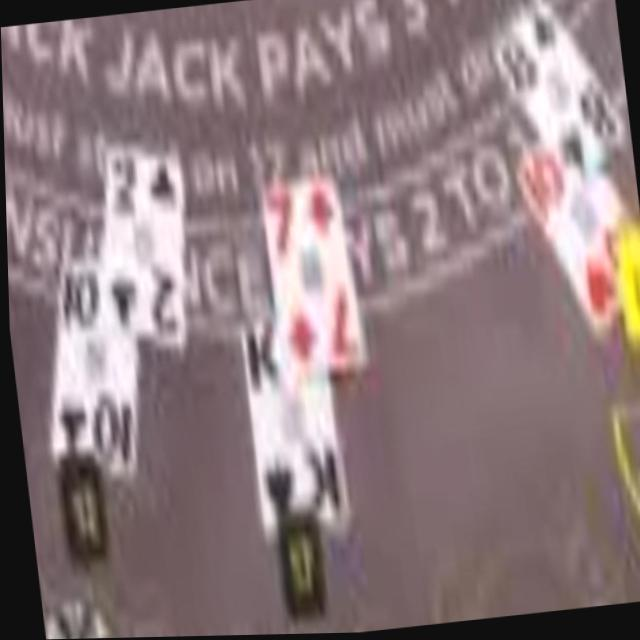Card-10: (514, 139, 632, 339), (49, 248, 133, 477)
Card-2: (99, 146, 180, 346)
Card-7: (260, 174, 364, 388)
Card-8: (493, 0, 621, 197)
Card-K: (236, 317, 346, 534)
